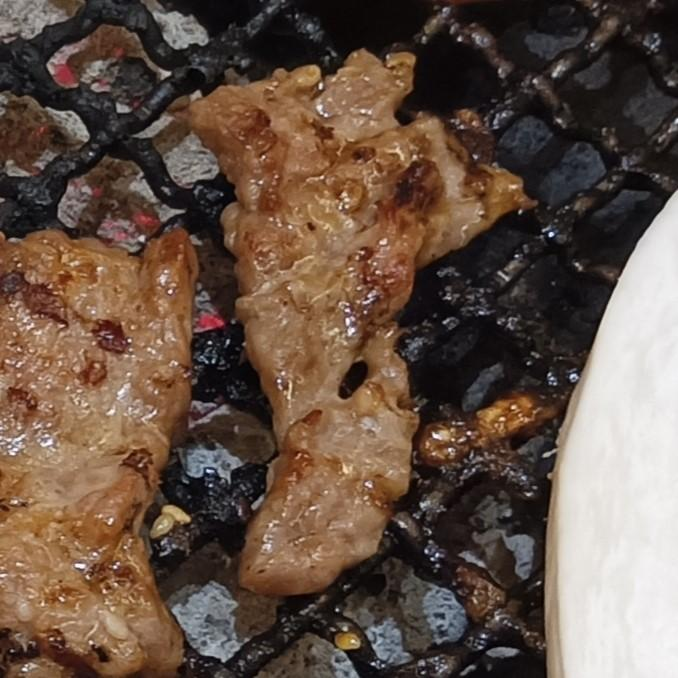Well-Cooked: (176, 50, 531, 601), (0, 229, 198, 677)
